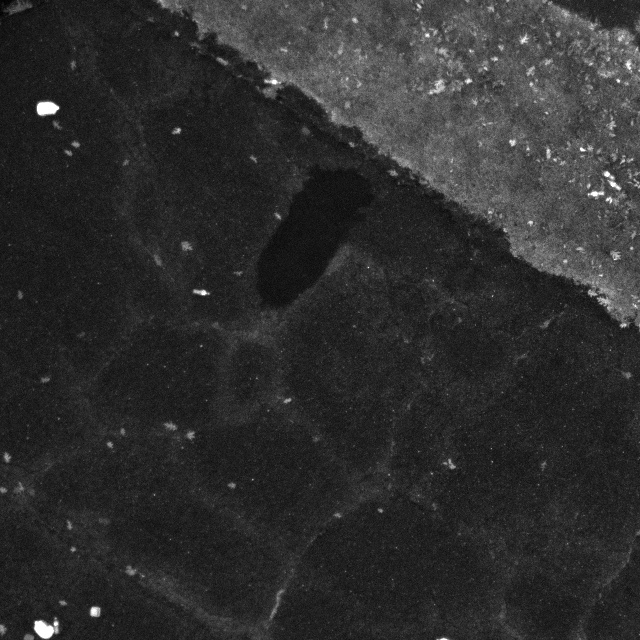bottle: (261, 75, 282, 88), (192, 285, 211, 297), (586, 188, 606, 199)
can: (34, 97, 62, 116)
